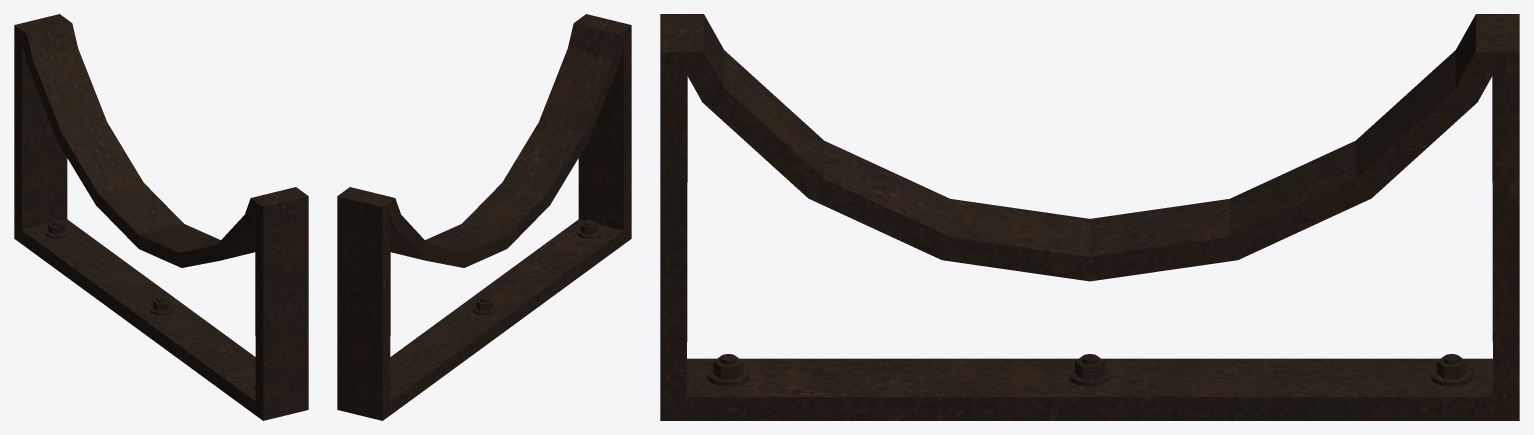
Rendered from stand_mx_1.glb.
The picture shows the model from 3 angles, left to right: view 1: azimuth 30°, elevation 25°; view 2: azimuth 150°, elevation 25°; view 3: azimuth 270°, elevation 25°; orthographic projection. The views are drawn at different scales.
Visible parts, largest first — view 1: stand_mx_1; view 2: stand_mx_1; view 3: stand_mx_1.
Boxes of the visible parts, x1=… form: stand_mx_1: x1=14, y1=14, x2=308, y2=420; stand_mx_1: x1=337, y1=14, x2=631, y2=420; stand_mx_1: x1=660, y1=14, x2=1519, y2=420.
Size of the model in its own units: 0.2 by 0.9 by 1.9.
Materials: 1 (1 with a texture image).
